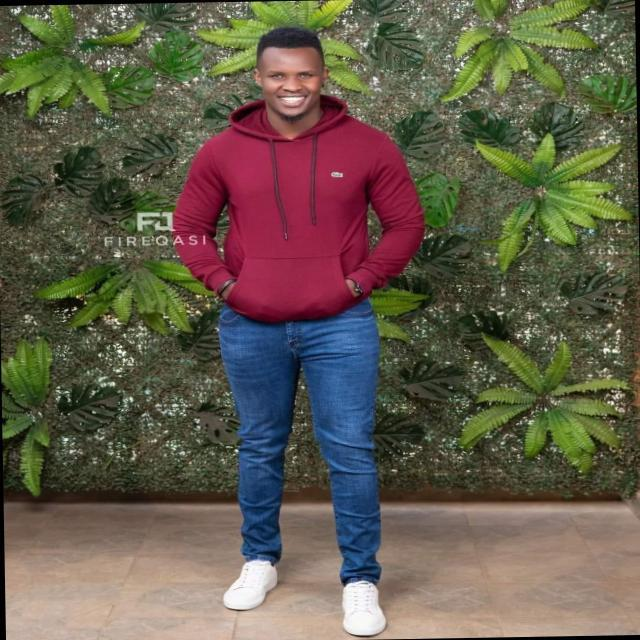sweater: (171, 89, 426, 321)
trousers: (216, 303, 398, 588)
